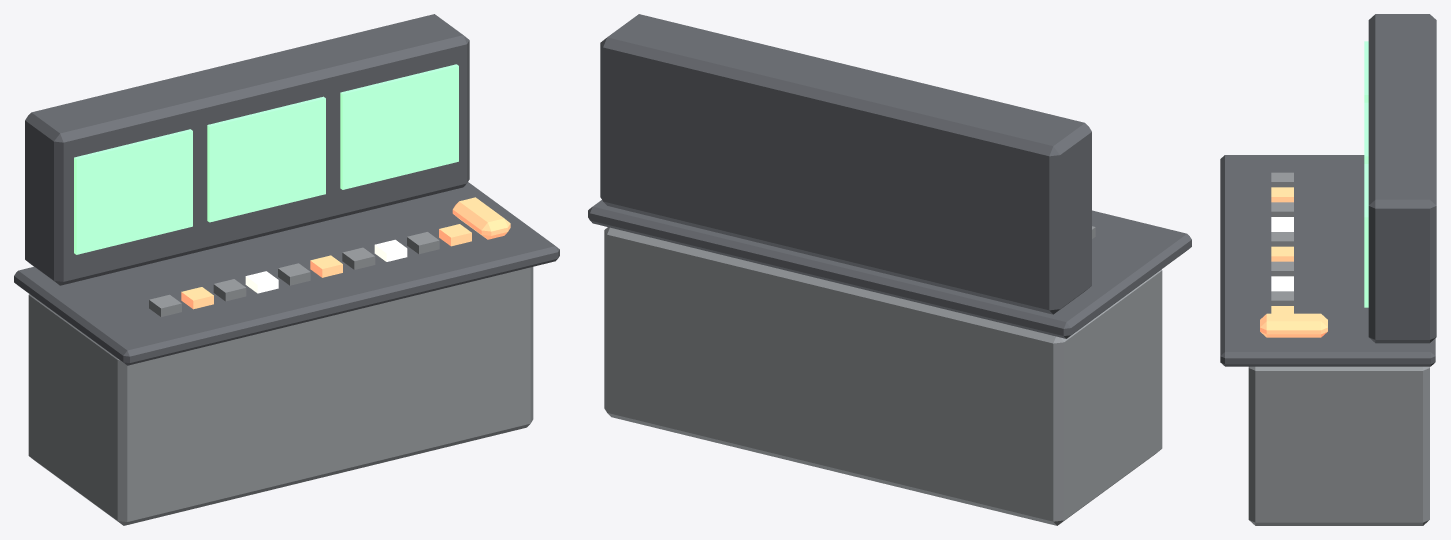
File: hm_console.glb
The picture shows the model from 3 angles, left to right: view 1: azimuth 30°, elevation 25°; view 2: azimuth 150°, elevation 25°; view 3: azimuth 270°, elevation 25°; orthographic projection. The views are drawn at different scales.
Visible parts, largest first — view 1: hm_console; view 2: hm_console; view 3: hm_console.
Boxes of the visible parts, x1,y1,x2,y2 form: hm_console: (14,14,559,525); hm_console: (588,14,1191,525); hm_console: (1220,14,1436,525).
Bounding box in the file's own units: 2.1 × 1.59 × 0.955.
